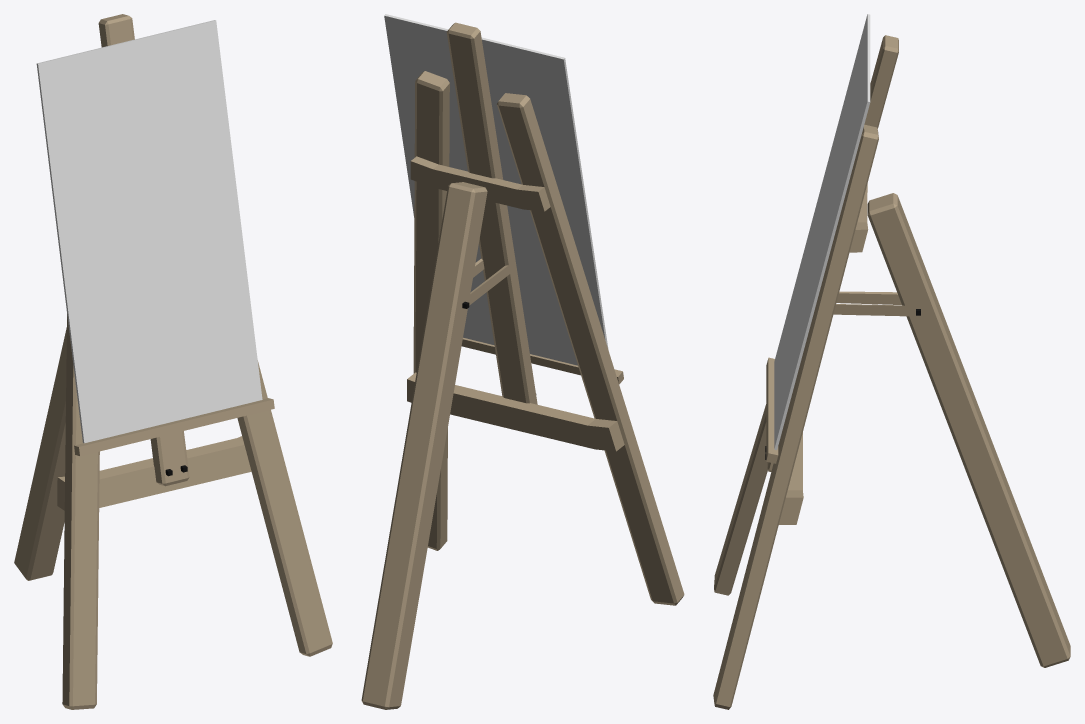
The model's file is tableau.fbx.
The picture shows the model from 3 angles, left to right: view 1: azimuth 30°, elevation 25°; view 2: azimuth 150°, elevation 25°; view 3: azimuth 270°, elevation 25°; orthographic projection.
Visible parts, largest first — view 1: tableau1; view 2: tableau1; view 3: tableau1.
Part boxes in pixels (<box>): tableau1: <box>14,14,332,709</box>; tableau1: <box>361,14,684,709</box>; tableau1: <box>713,14,1070,709</box>.
Size of the model in its own units: 9.64 by 21.62 by 11.25.
